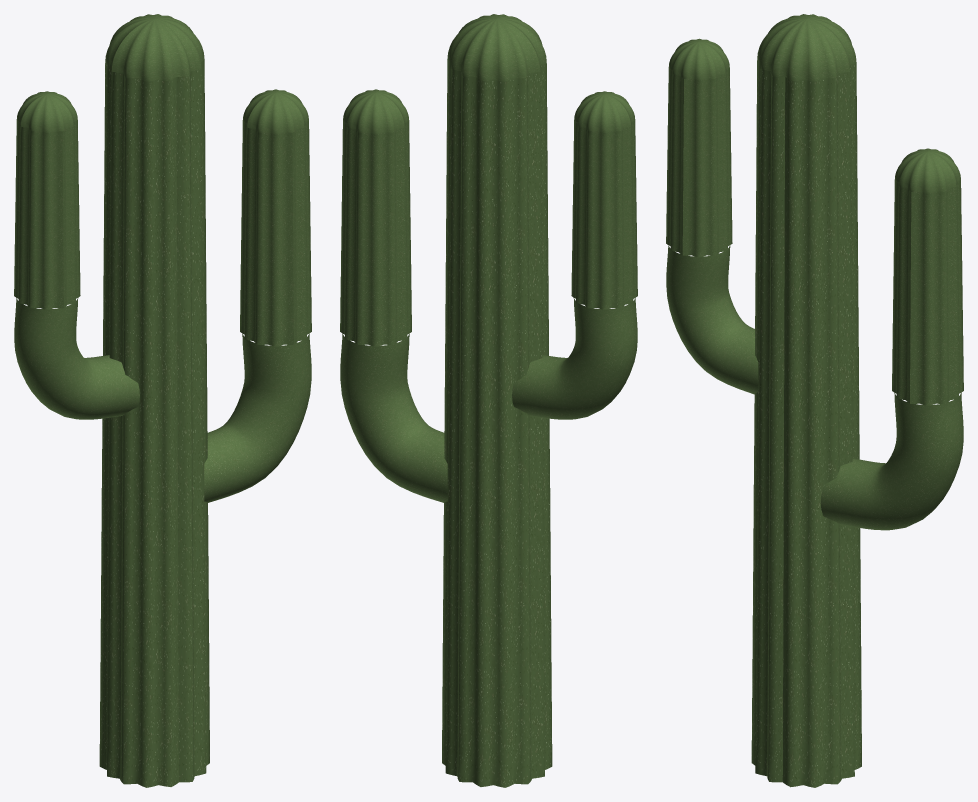
File: p-saguaro.glb
3 renders of one model, left to right at view 1: azimuth 30°, elevation 25°; view 2: azimuth 150°, elevation 25°; view 3: azimuth 330°, elevation 25°, orthographic.
Size of the model in its own units: 1.29 by 3.18 by 0.4173.
Materials: 1 (1 with a texture image).
